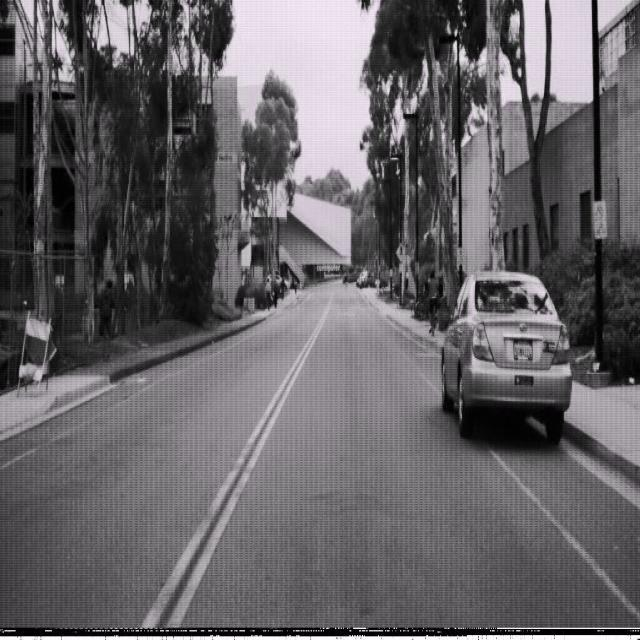pedestrianCrossing: (396, 240, 406, 261)
